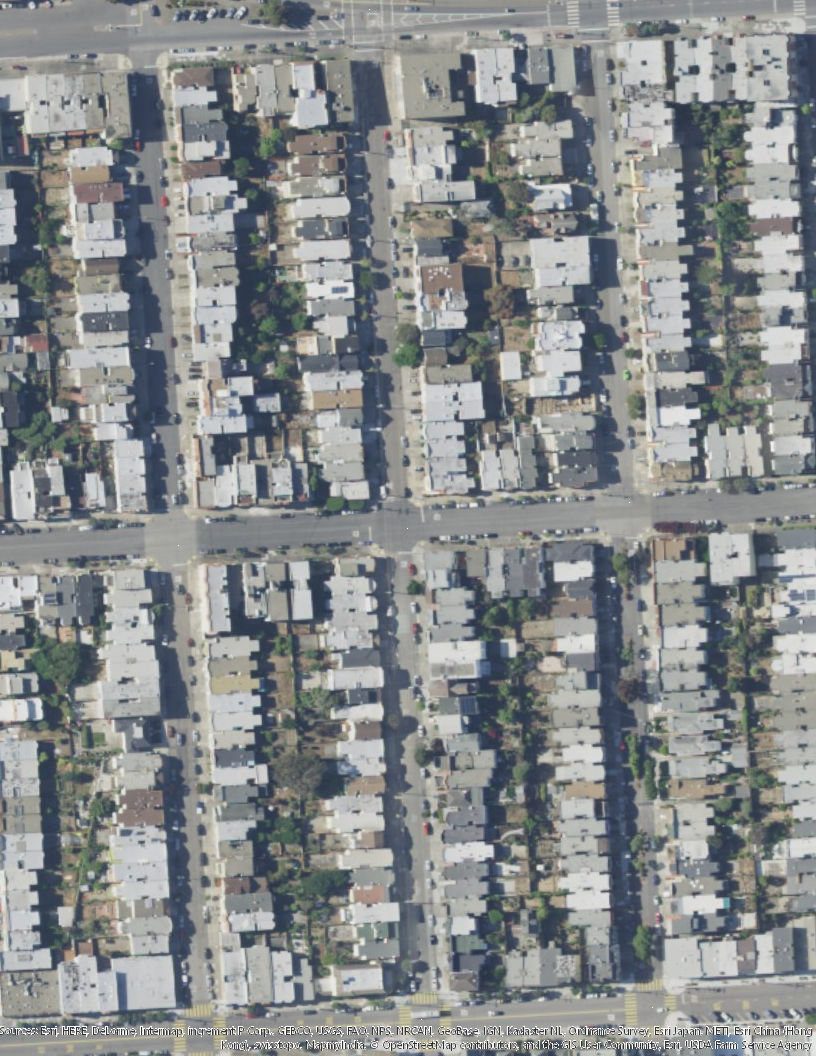zebracross: (623, 991, 638, 1029), (604, 1, 623, 30), (213, 1016, 229, 1049), (566, 1, 583, 29), (173, 1020, 188, 1050), (635, 977, 664, 992), (410, 991, 440, 1005), (187, 1004, 212, 1018), (440, 1005, 454, 1029), (793, 1, 810, 18), (663, 994, 678, 1013), (397, 1006, 411, 1026)
